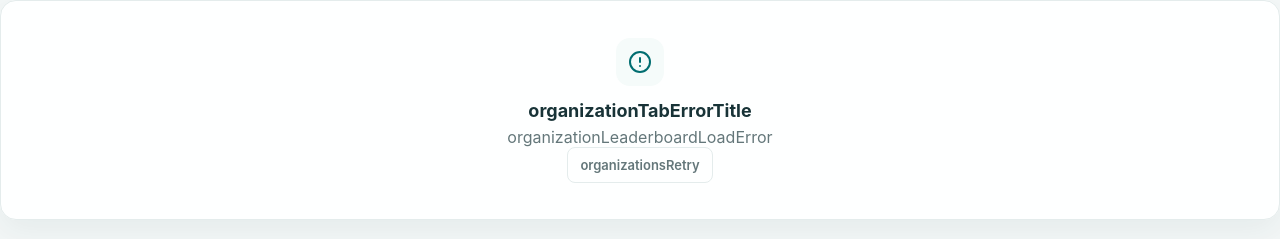
Test: OrganizationLeaderboardPanel › shows an error with a retry action
This screenshot has width=1280, height=239.
Click the button "organizationsRetry": (640, 164) [567,146,713,182]
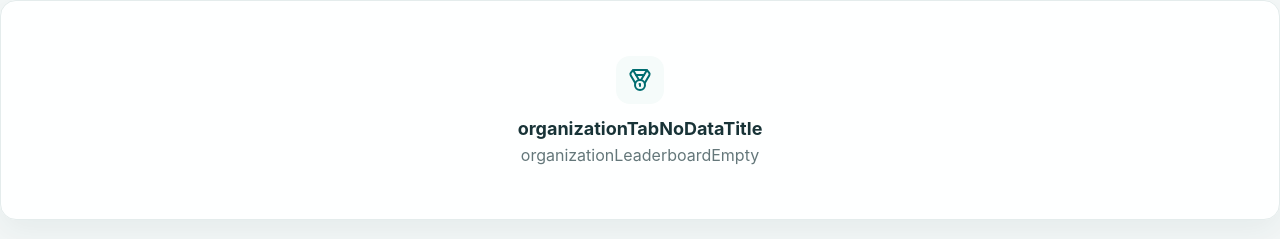
Check: the text "organizationLeaderboardEmpty" is shown, box [521,144,759,164]
